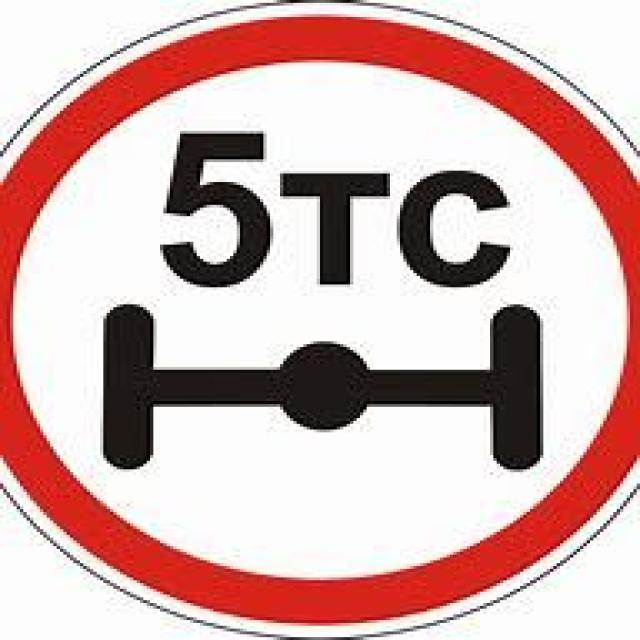axle_load_limit: (0, 0, 637, 637)
